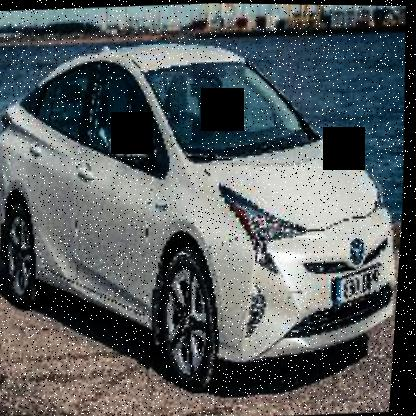not_emergency: (0, 28, 410, 393)
